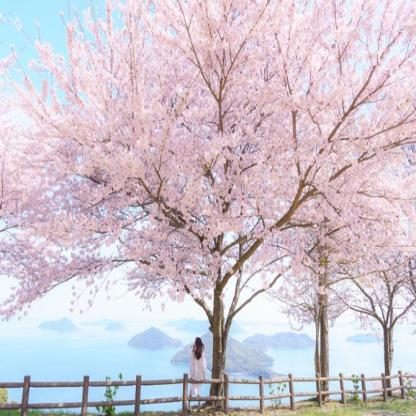Someiyoshino: (1, 3, 415, 319)
